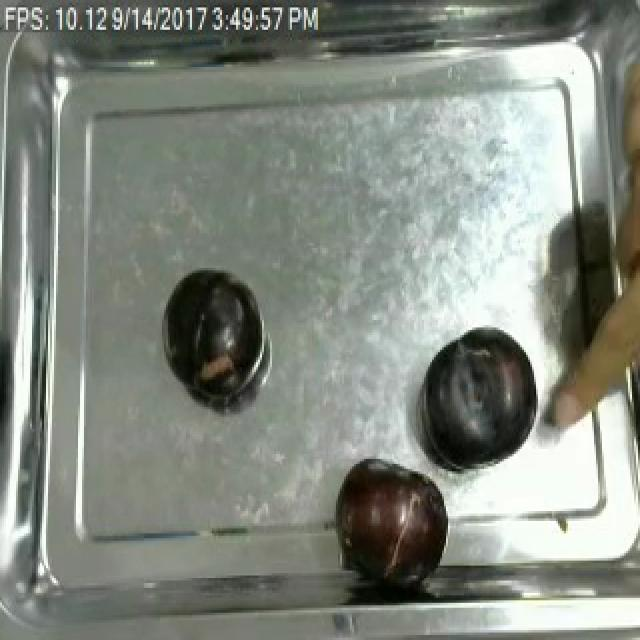Fruit: (414, 327, 542, 479), (330, 452, 454, 586), (160, 265, 258, 392)
